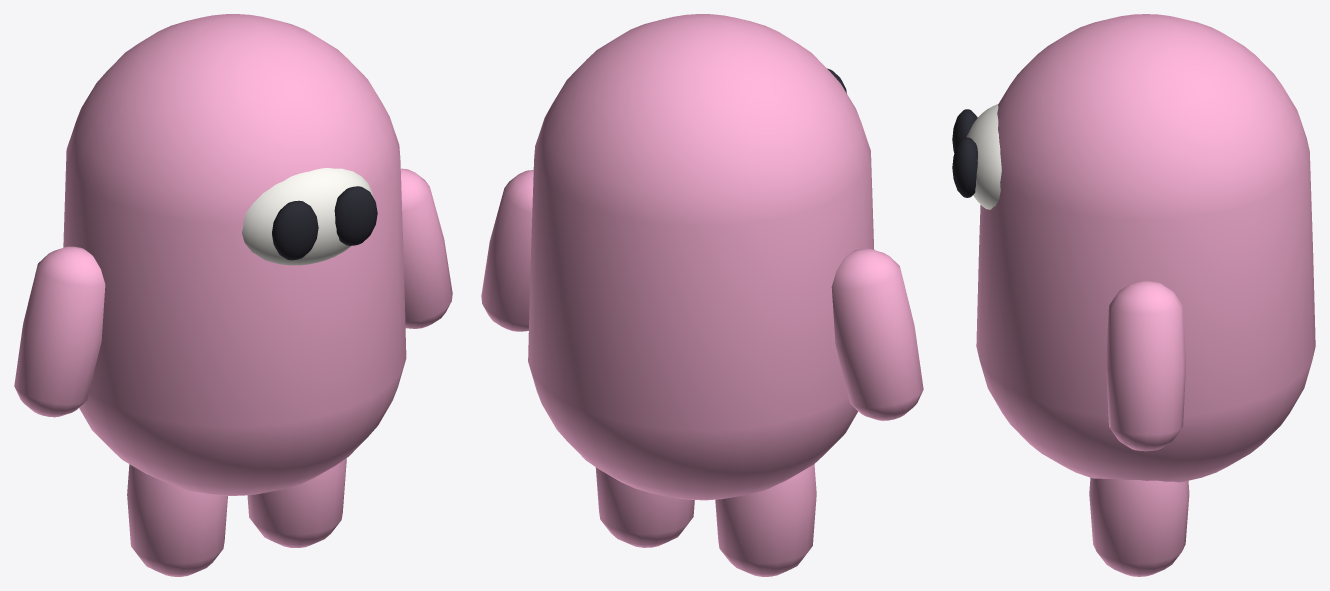
Rendered from bean.glb.
3 views of the same model, side by side, from view 1: azimuth 30°, elevation 25°; view 2: azimuth 150°, elevation 25°; view 3: azimuth 270°, elevation 25° (orthographic). The views are drawn at different scales.
Visible parts, largest first — view 1: BeanBody, ArmL, LegL, ArmR, Visor, LegR, EyeL, EyeR; view 2: BeanBody, ArmL, LegL, ArmR, LegR; view 3: BeanBody, ArmR, LegR, Visor, EyeR, EyeL.
Boxes of the visible parts, x1,y1,x2,y2 form: BeanBody: (63, 14, 406, 495); ArmL: (14, 246, 105, 417); LegL: (127, 464, 227, 576); ArmR: (400, 168, 452, 328); Visor: (242, 168, 372, 265); LegR: (247, 458, 346, 547); EyeL: (272, 200, 318, 260); EyeR: (334, 186, 377, 245); BeanBody: (528, 14, 874, 500); ArmL: (831, 248, 923, 420); LegL: (715, 464, 816, 576); ArmR: (481, 170, 533, 331); LegR: (595, 467, 694, 547); BeanBody: (976, 14, 1315, 482); ArmR: (1106, 281, 1185, 451); LegR: (1089, 477, 1189, 576); Visor: (966, 104, 1001, 209); EyeR: (952, 137, 977, 197); EyeL: (952, 109, 977, 152).
Size of the model in its own units: 1.45 by 1.7 by 1.09.
